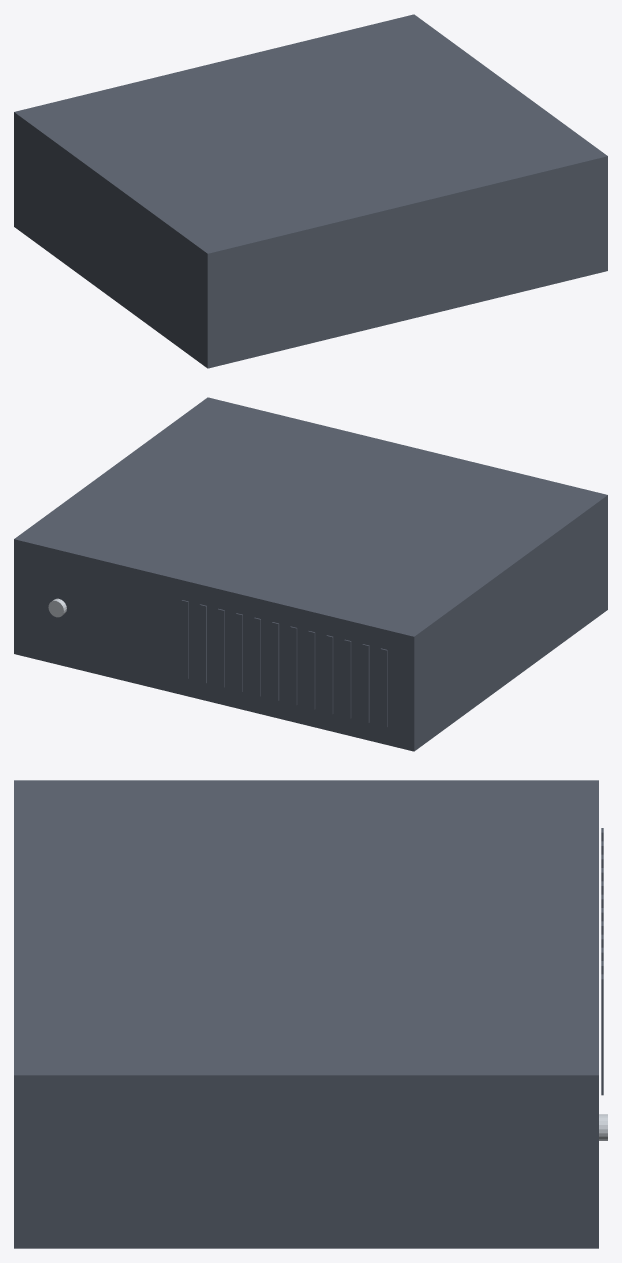
The model's file is wafer-pc-2.glb.
The picture shows the model from 3 angles, top to bottom: view 1: azimuth 30°, elevation 25°; view 2: azimuth 150°, elevation 25°; view 3: azimuth 270°, elevation 25°; orthographic projection. The views are drawn at different scales.
Parts seen in each view (by area): view 1: black workstation case; view 2: black workstation case, dark front grille (×12); view 3: black workstation case.
Boxes of the visible parts, x1,y1,x2,y2 form: black workstation case: [14, 14, 607, 368]; black workstation case: [14, 397, 607, 751]; dark front grille (×12): [181, 600, 387, 727]; black workstation case: [14, 780, 598, 1248].
Bounding box in the file's own units: 0.31 × 0.085 × 0.264.
